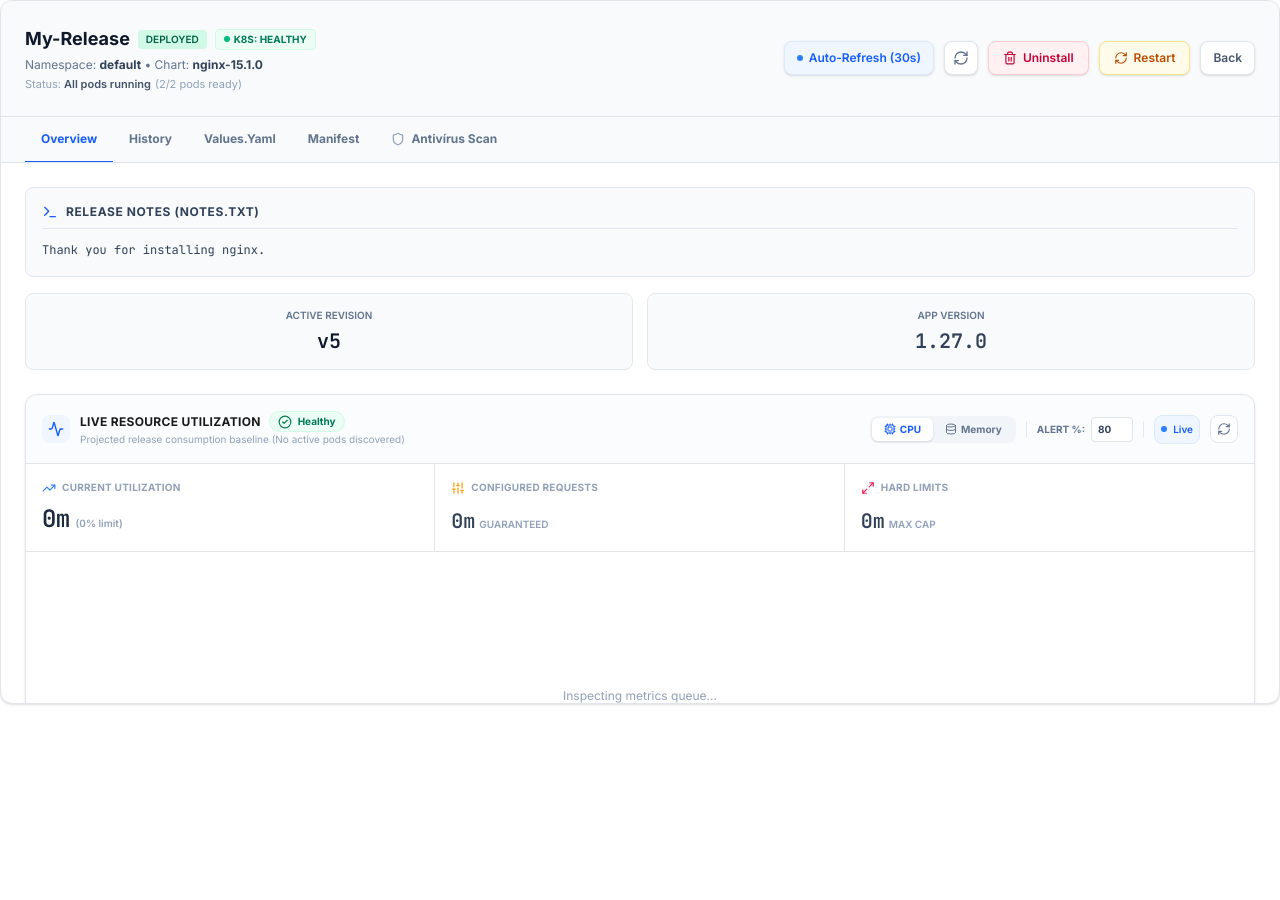
ReleaseDetails › switching to Values tab shows values editor
Expected: the text "values.yaml" is shown, left=204, top=131, right=276, bottom=147
Click the button "values.yaml".
click(240, 140)  # box left=188, top=117, right=292, bottom=163
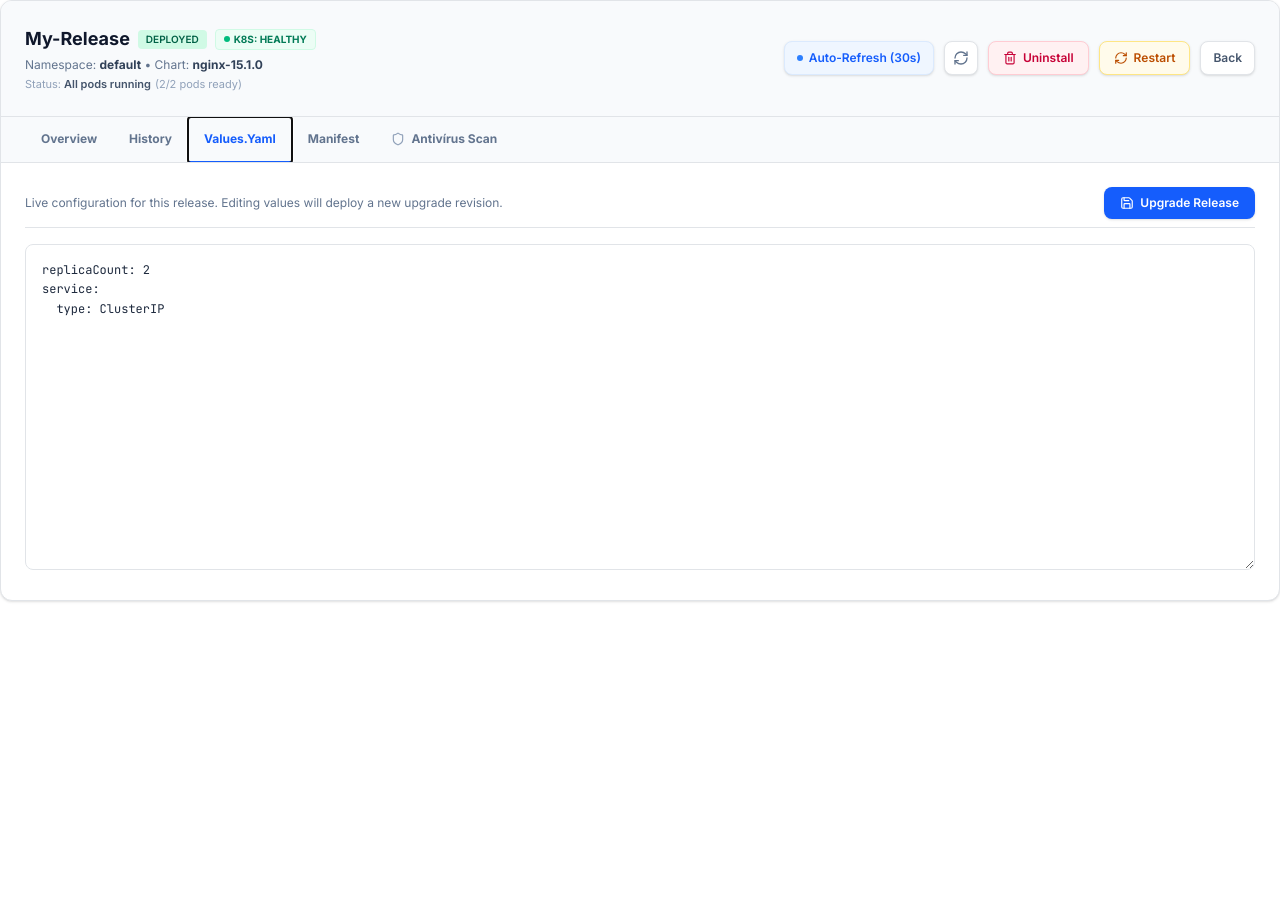
Now the button "Upgrade Release" is shown, box left=1104, top=187, right=1255, bottom=219
